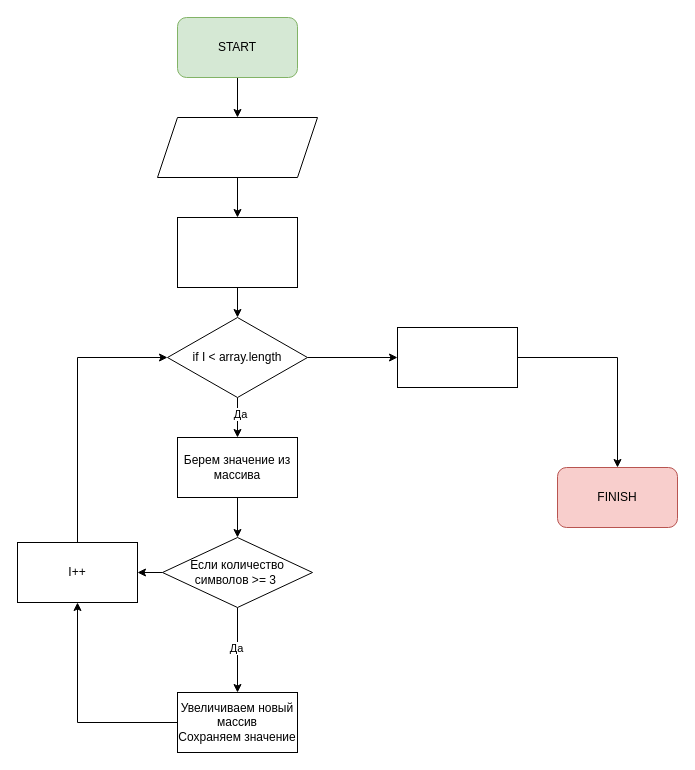
The diagram is 695 pixels wide and 770 high, and some of its shapes have lost their labels. The centre of each missing label's shape, as x and y in pixels:
"Выводим значения нового массива" goes at [457,357].
"Запрашиваем входные данные у пользователя" goes at [237,147].
"Преобразуем данные в массив Создаем новый пустой массив I=0" goes at [237,252].
